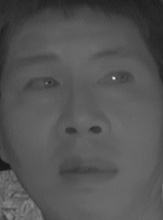eye: (94, 64, 137, 90), (20, 74, 66, 97)
mouth: (54, 150, 119, 190)
